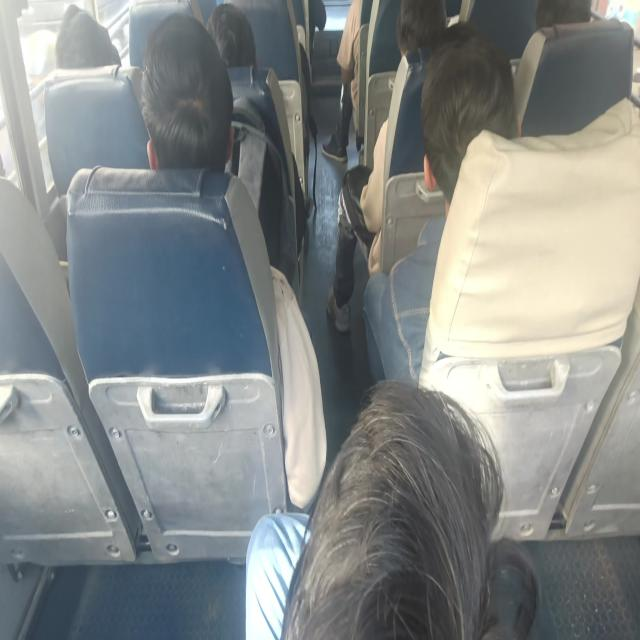person: (417, 23, 639, 537), (138, 12, 327, 510), (245, 378, 539, 638), (362, 21, 519, 388), (326, 0, 447, 333), (138, 12, 234, 171), (321, 0, 363, 164), (54, 3, 122, 69), (207, 2, 256, 68)
